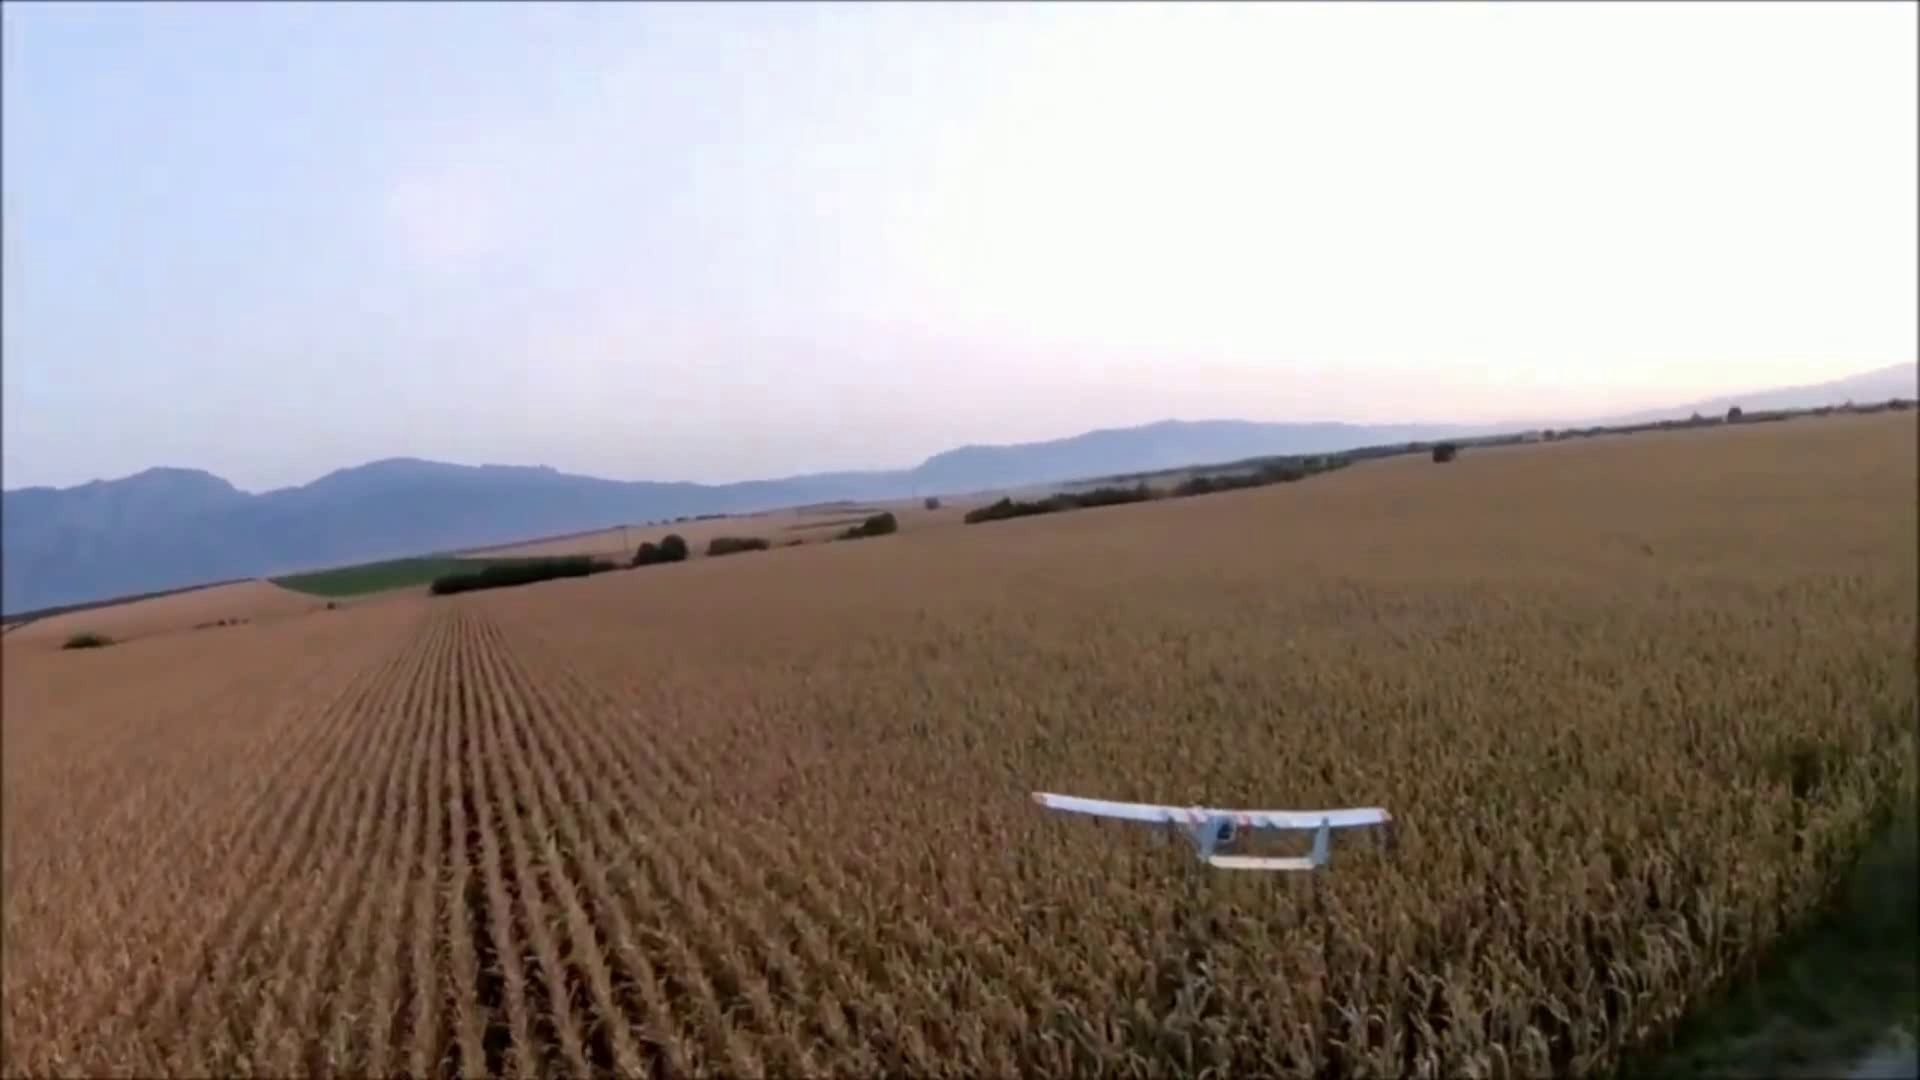airplane: (1034, 789, 1395, 869)
